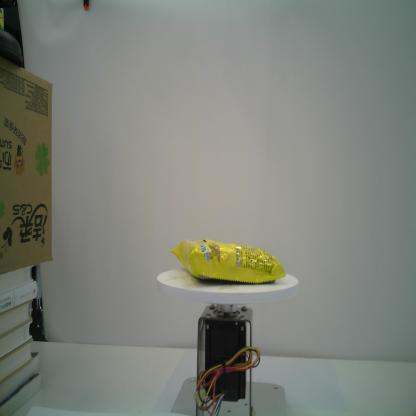Instant Noodles: (170, 238, 287, 284)
